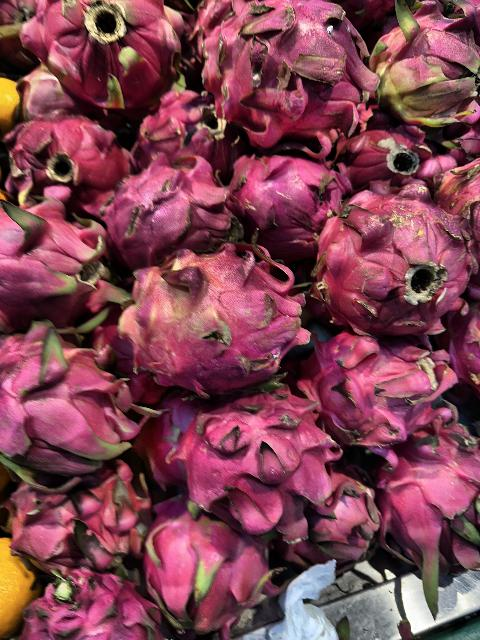buah-naga-belum-matang: (123, 252, 295, 376), (365, 0, 479, 136)
buah-naga-matang: (0, 328, 138, 496), (186, 0, 360, 132), (313, 178, 464, 326), (168, 392, 328, 524), (140, 487, 274, 635), (300, 322, 450, 450), (0, 198, 128, 339), (26, 0, 178, 108), (376, 440, 480, 582), (220, 147, 348, 260), (7, 472, 147, 562), (100, 160, 234, 254), (7, 120, 126, 204), (300, 472, 396, 564), (28, 578, 158, 640)
